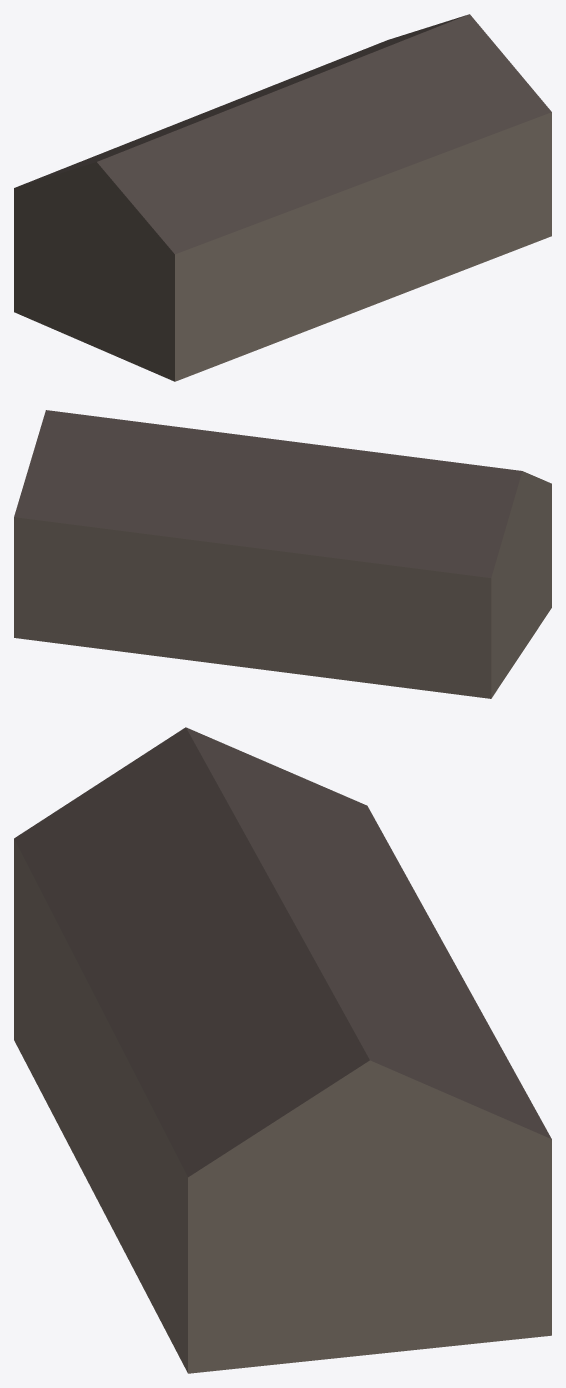
3 renders of one model, top to bottom at view 1: azimuth 30°, elevation 25°; view 2: azimuth 150°, elevation 25°; view 3: azimuth 270°, elevation 25°, orthographic. The views are drawn at different scales.
Visible parts, largest first — view 1: HP-w505649234; view 2: HP-w505649234; view 3: HP-w505649234.
Boxes of the visible parts, left/top/right/bottom form: HP-w505649234: left=14, top=14, right=551, bottom=381; HP-w505649234: left=14, top=410, right=551, bottom=698; HP-w505649234: left=14, top=727, right=551, bottom=1373.
Bounding box in the file's own units: 24.36 × 9 × 14.9.
